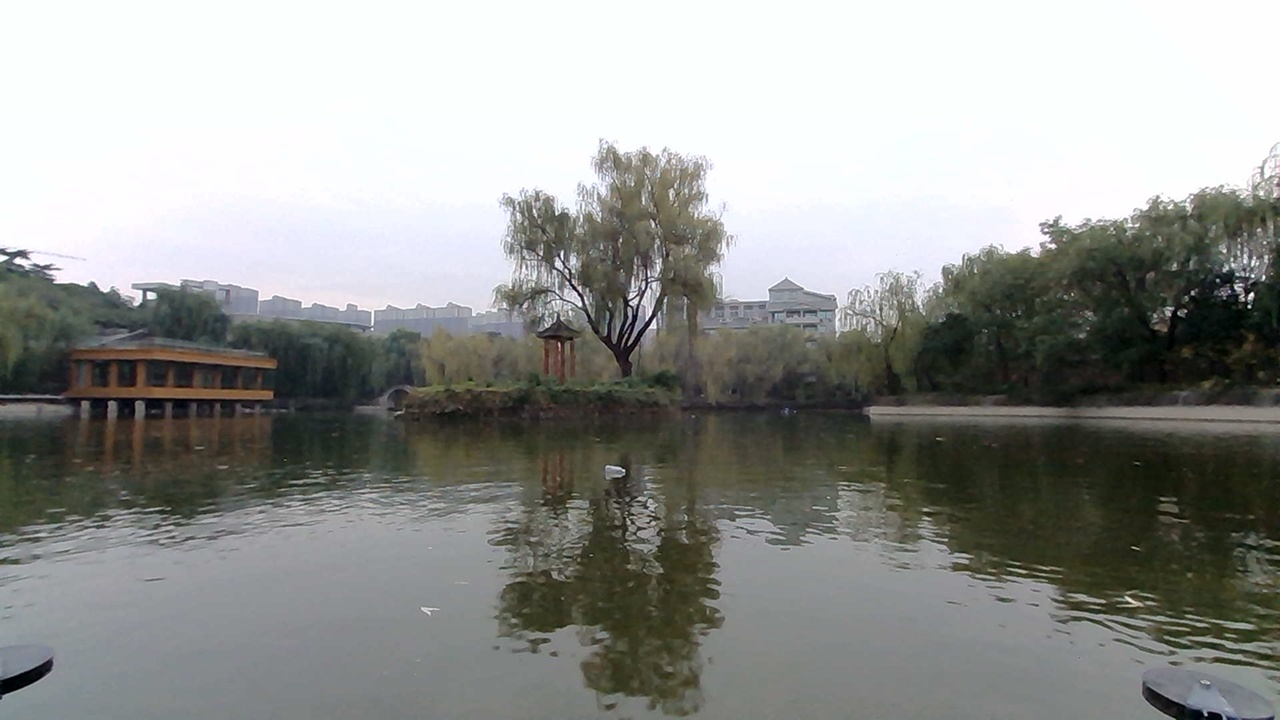bottle: (594, 448, 658, 481)
